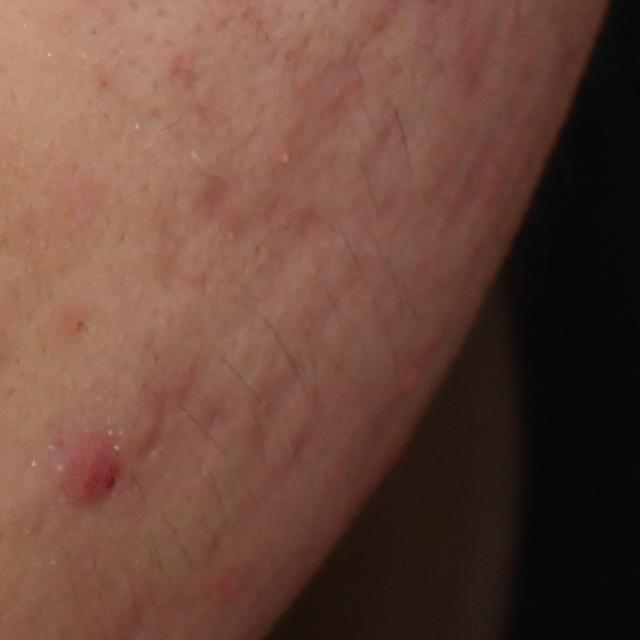atrophic_scar: (433, 24, 552, 221), (195, 167, 244, 235), (162, 44, 207, 96)
papule: (48, 434, 131, 514), (130, 395, 166, 456)
